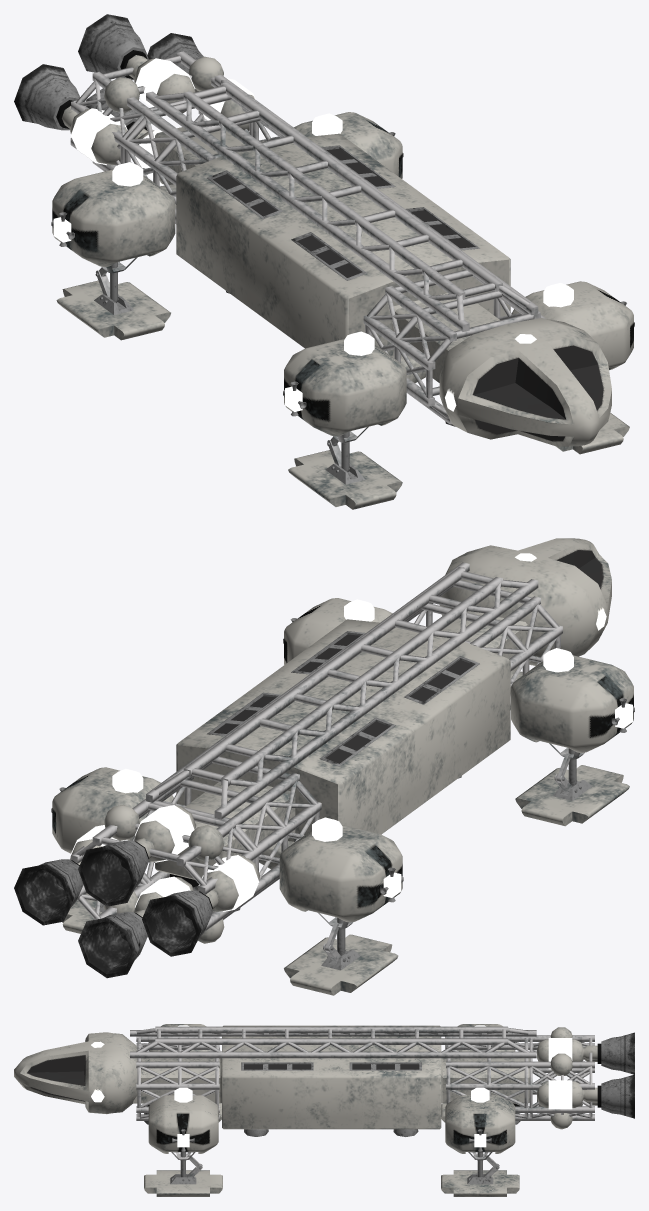
File: Eagle Transporter.fbx
3 views of the same model, one above another, from view 1: azimuth 30°, elevation 25°; view 2: azimuth 150°, elevation 25°; view 3: azimuth 270°, elevation 25° (orthographic). The views are drawn at different scales.
Visible parts, largest first — view 1: Eagle_Transporter; view 2: Eagle_Transporter; view 3: Eagle_Transporter.
Boxes of the visible parts, <box> form: Eagle_Transporter: <box>14,14,634,509</box>; Eagle_Transporter: <box>14,538,634,995</box>; Eagle_Transporter: <box>14,1024,634,1196</box>.
Bounding box in the file's own units: 205 × 107 × 509.
